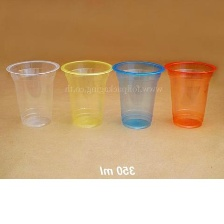glass: (57, 56, 116, 130), (4, 56, 63, 130), (110, 58, 167, 134), (160, 59, 218, 131)
